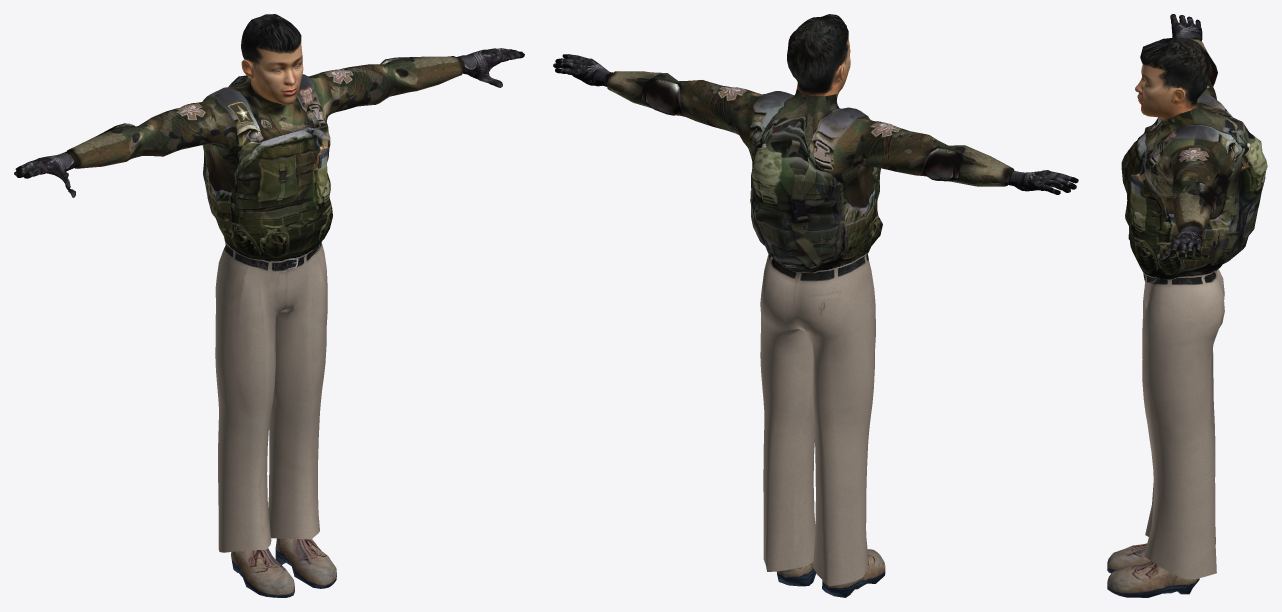
Rendered from Millitary_1.obj.
The picture shows the model from 3 angles, left to right: view 1: azimuth 30°, elevation 25°; view 2: azimuth 150°, elevation 25°; view 3: azimuth 270°, elevation 25°; orthographic projection. The views are drawn at different scales.
Visible parts, largest first — view 1: H_DDS_MidRes_Mesh_0; view 2: H_DDS_MidRes_Mesh_0; view 3: H_DDS_MidRes_Mesh_0.
Boxes of the visible parts, bbox=[...] form: H_DDS_MidRes_Mesh_0: bbox=[14, 14, 524, 597]; H_DDS_MidRes_Mesh_0: bbox=[553, 14, 1078, 597]; H_DDS_MidRes_Mesh_0: bbox=[1107, 14, 1267, 597].
Size of the model in its own units: 1.88 by 1.96 by 0.5264.
Materials: 2 (1 with a texture image).
